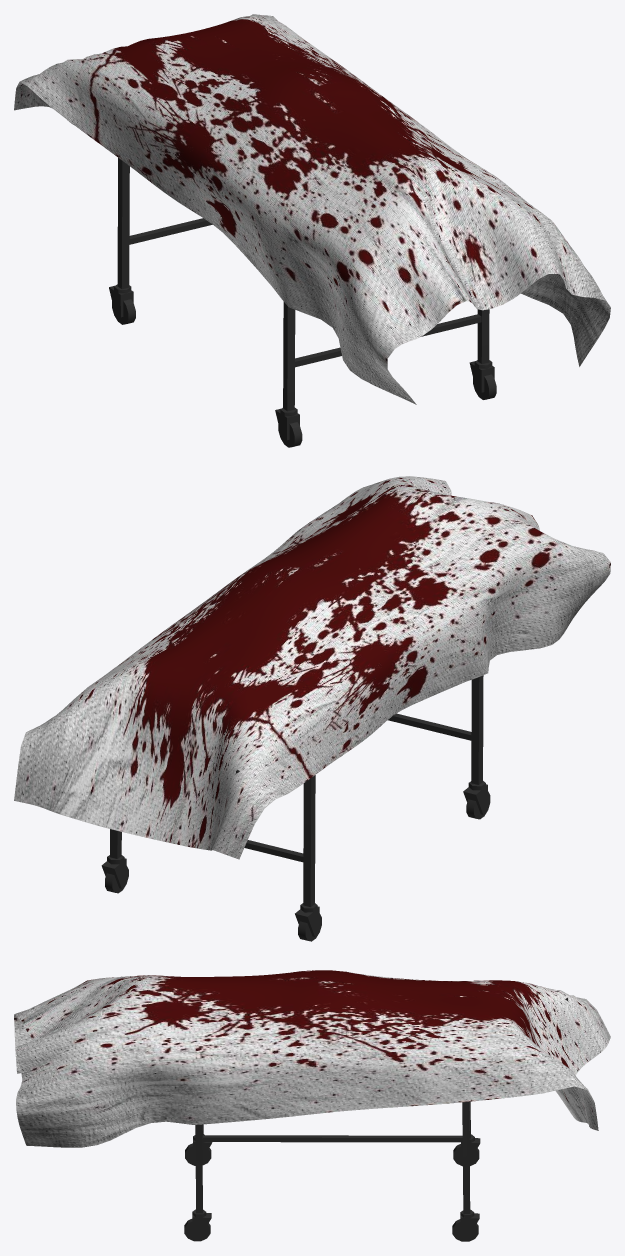
The model's file is TRUPNEW1.fbx.
The picture shows the model from 3 angles, top to bottom: view 1: azimuth 30°, elevation 25°; view 2: azimuth 150°, elevation 25°; view 3: azimuth 270°, elevation 25°; orthographic projection. The views are drawn at different scales.
Visible parts, largest first — view 1: TRUPNEW; view 2: TRUPNEW; view 3: TRUPNEW.
Boxes of the visible parts, x1,y1,x2,y2 form: TRUPNEW: (14, 14, 610, 447); TRUPNEW: (14, 476, 610, 941); TRUPNEW: (14, 970, 610, 1241).
Size of the model in its own units: 2583 by 2785 by 6708.
3 materials, 1 textured.
